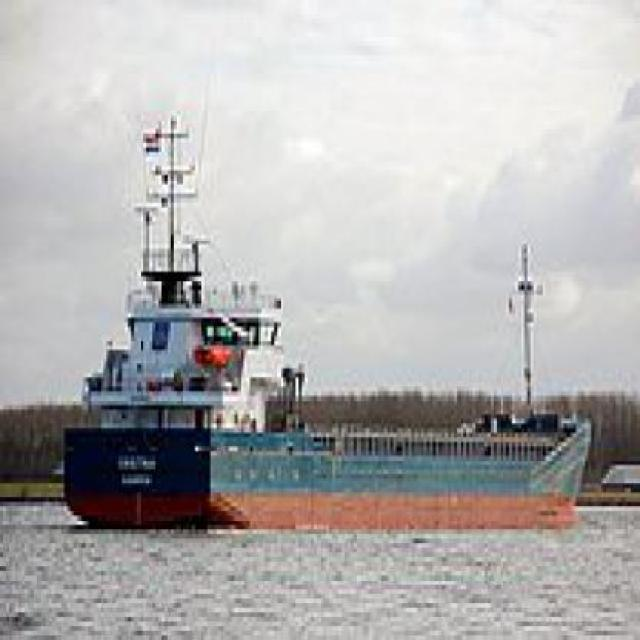container: (37, 203, 602, 545)
